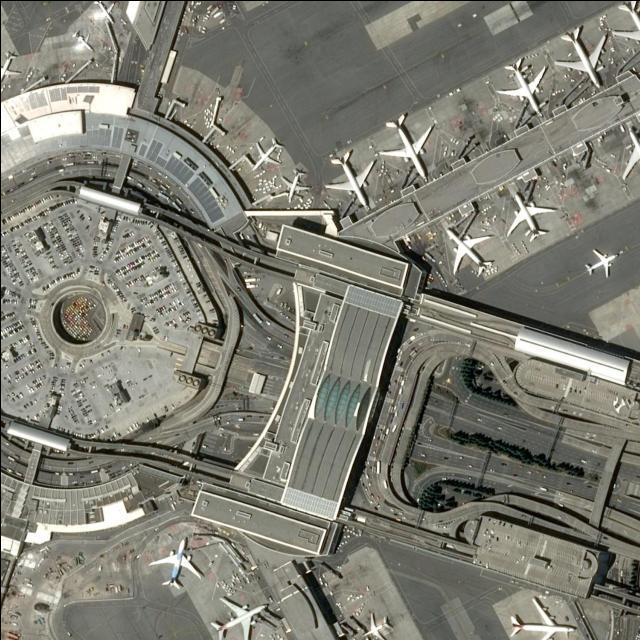Aircraft: (381, 108, 437, 180), (555, 23, 610, 88), (150, 531, 206, 591), (498, 53, 550, 116), (323, 150, 377, 207), (510, 596, 580, 638), (210, 595, 274, 639), (449, 217, 495, 277), (508, 188, 556, 240), (614, 0, 640, 52), (621, 118, 640, 180), (585, 246, 623, 274), (253, 137, 284, 171), (359, 610, 395, 638), (283, 166, 311, 201), (0, 49, 24, 83)
